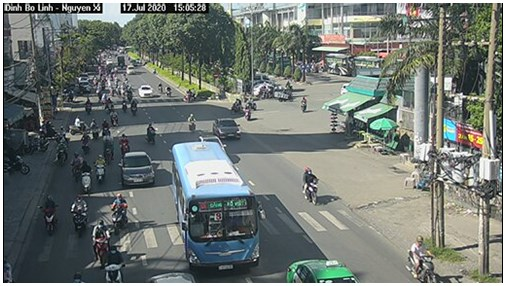xe_buyt: (170, 140, 263, 274)
xe_hoi: (120, 151, 157, 186), (213, 117, 242, 144), (137, 84, 154, 100)
xe_may: (404, 231, 446, 283), (87, 218, 110, 262), (38, 193, 59, 236), (110, 190, 130, 234), (102, 244, 125, 282), (69, 195, 88, 236), (301, 166, 319, 204), (141, 122, 160, 148), (79, 161, 93, 194), (93, 152, 107, 184), (71, 151, 85, 181), (101, 132, 115, 162), (66, 116, 88, 135), (183, 111, 198, 134), (55, 139, 67, 167), (116, 131, 128, 156), (181, 87, 197, 104), (100, 115, 111, 137), (79, 130, 89, 152), (89, 118, 98, 142), (243, 102, 252, 121), (299, 94, 309, 111), (130, 99, 139, 117)
